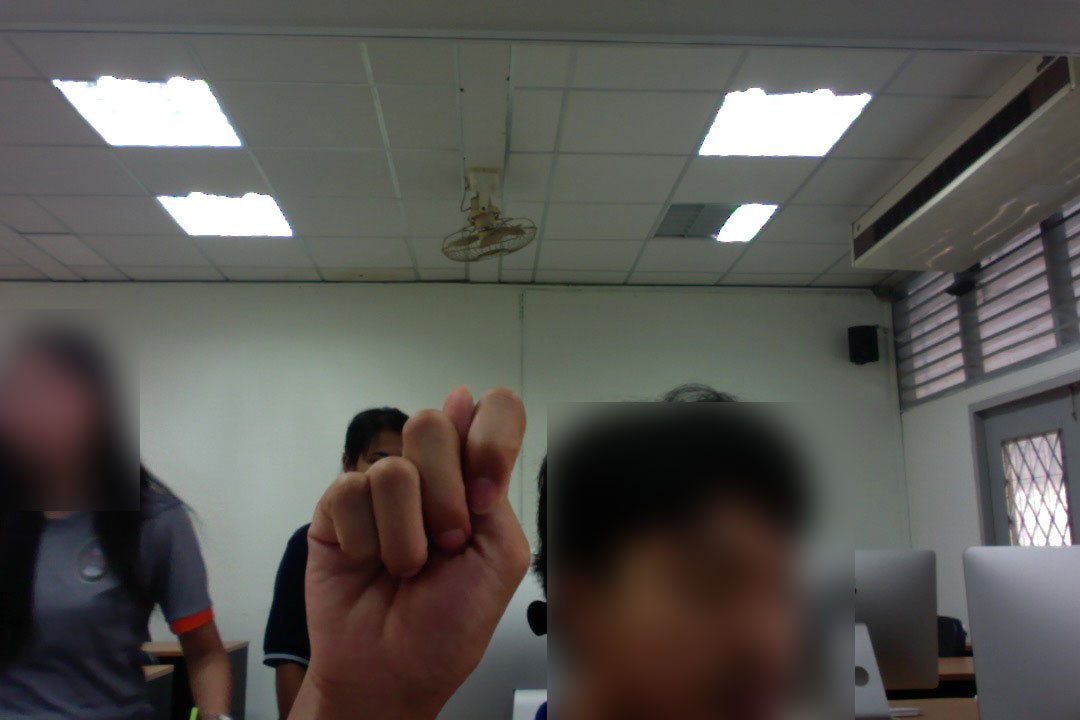tor: (290, 386, 542, 719)
